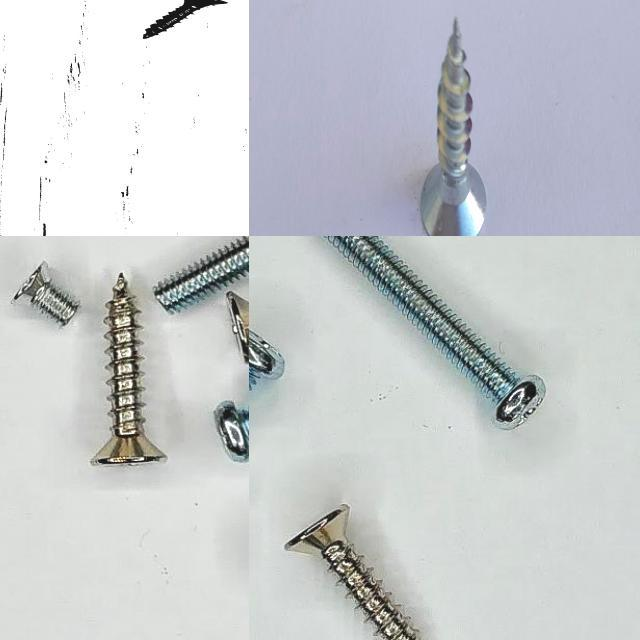Screw: (323, 236, 545, 429), (284, 505, 421, 640), (420, 17, 487, 236), (91, 274, 166, 465), (153, 236, 249, 312), (12, 262, 78, 325), (143, 0, 227, 39), (249, 330, 283, 389)
